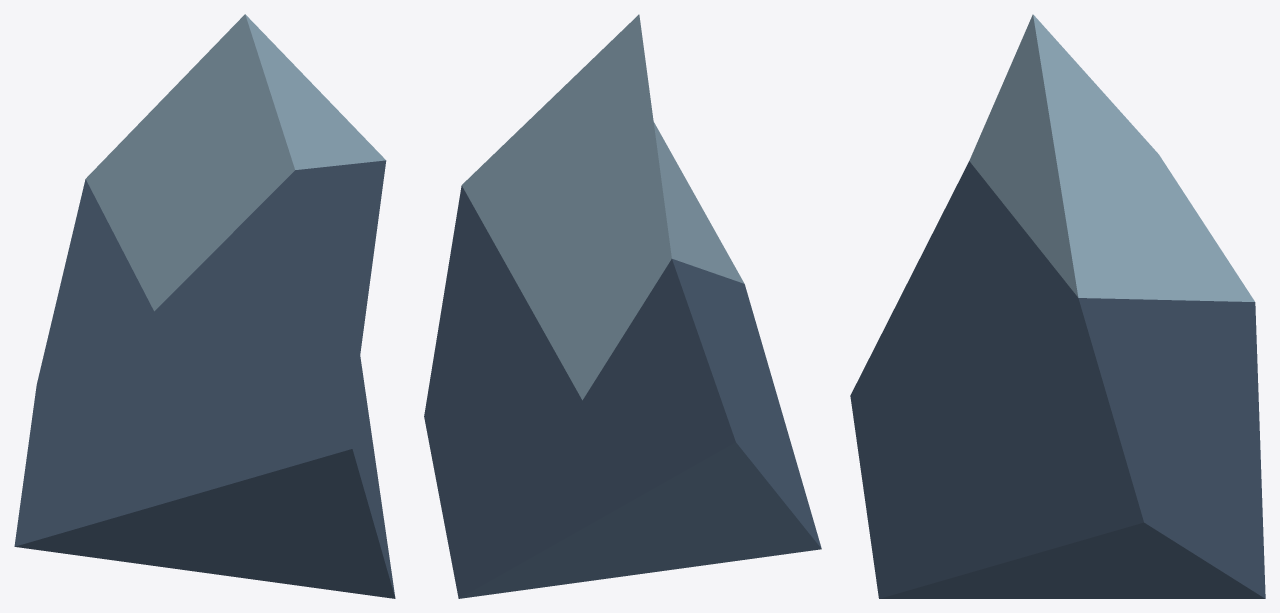
File: Gora.fbx
3 views of the same model, side by side, from view 1: azimuth 30°, elevation 25°; view 2: azimuth 150°, elevation 25°; view 3: azimuth 270°, elevation 25° (orthographic). The views are drawn at different scales.
Visible parts, largest first — view 1: Куб; view 2: Куб; view 3: Куб.
Boxes of the visible parts, box(x1,y1,x2,y2) form: Куб: box(14, 14, 395, 598); Куб: box(424, 14, 821, 598); Куб: box(850, 14, 1265, 598).
Bounding box in the file's own units: 201 × 292 × 214.
